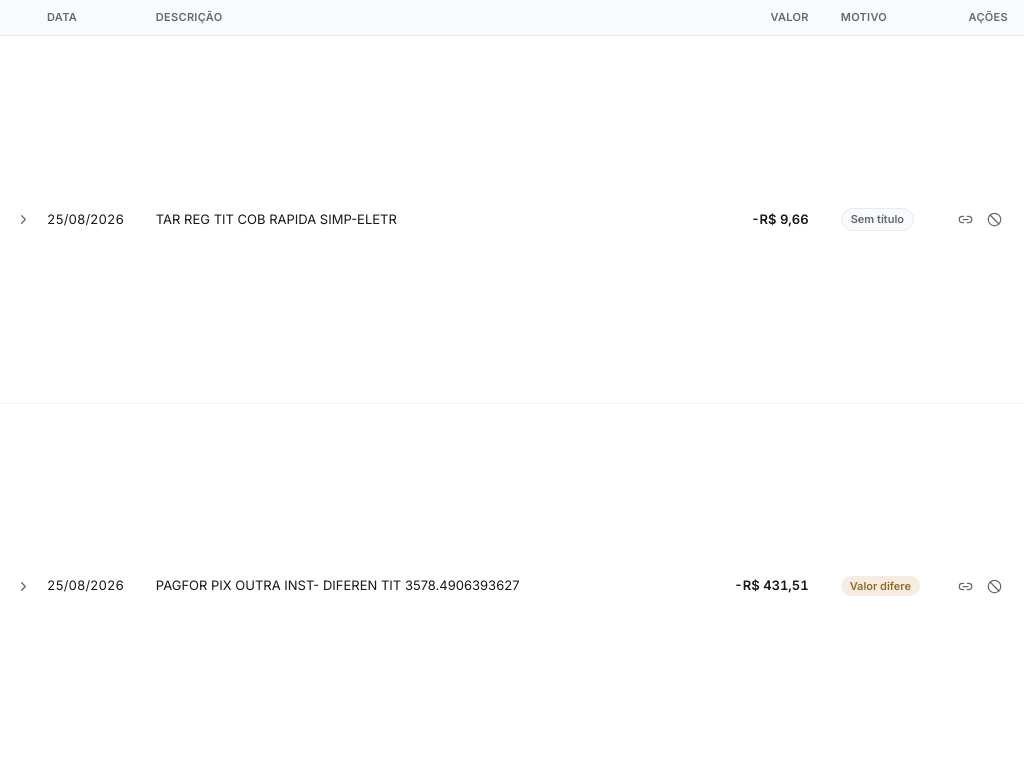
Scenario: TransactionsTable › opens only one row at a time, so the list stays scannable
Click the text "PAGFOR PIX OUTRA INST- DIFEREN TIT 3578.4906393627" at point(429, 586), box [140, 404, 718, 767]
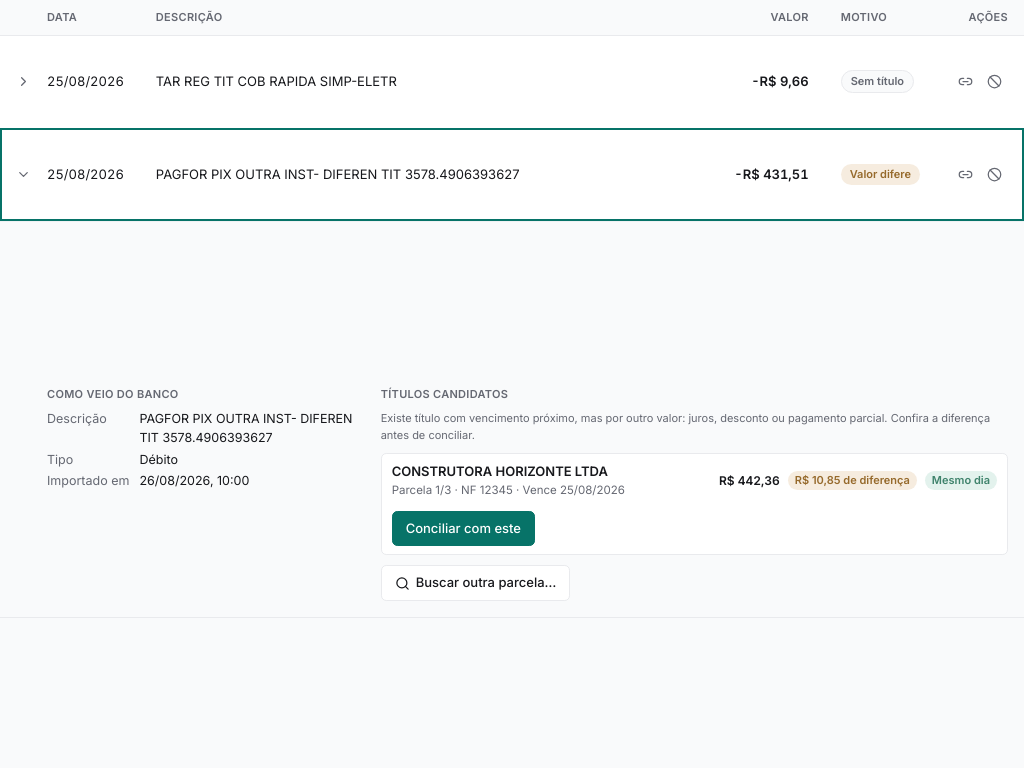
Expected: the text "CONSTRUTORA HORIZONTE LTDA" is shown, [392, 463, 608, 479]
Click the text "TAR REG TIT COB RAPIDA SIMP-ELETR" at point(429, 82), box [140, 35, 718, 128]
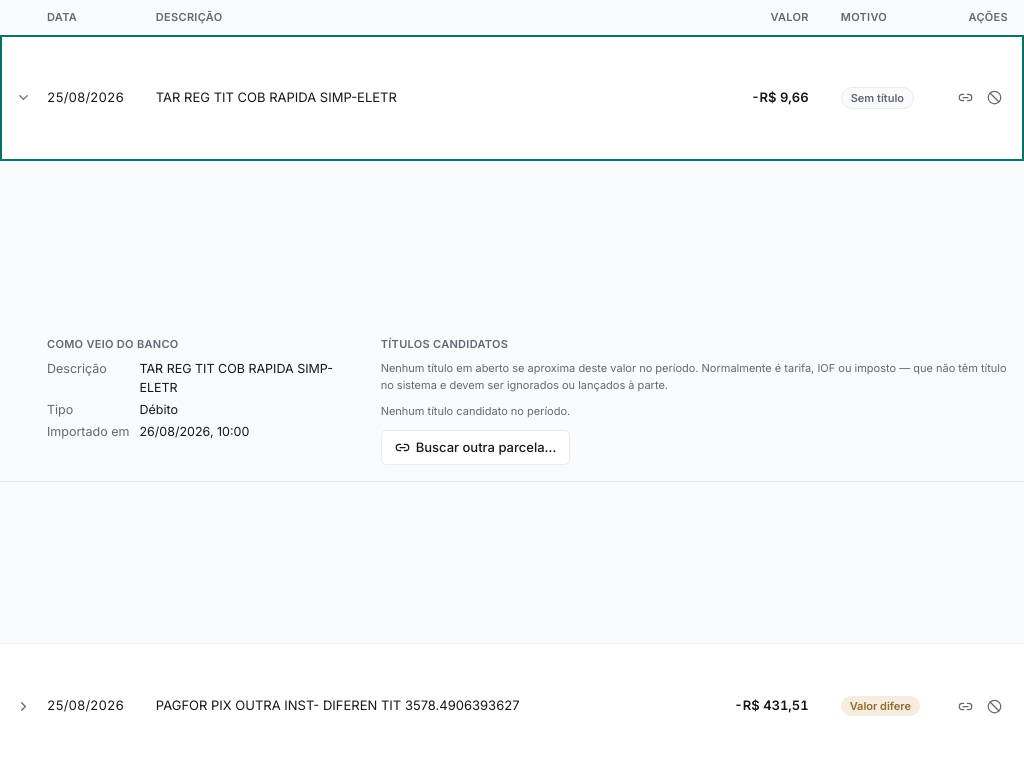
Expected: the text "CONSTRUTORA HORIZONTE LTDA" is gone
